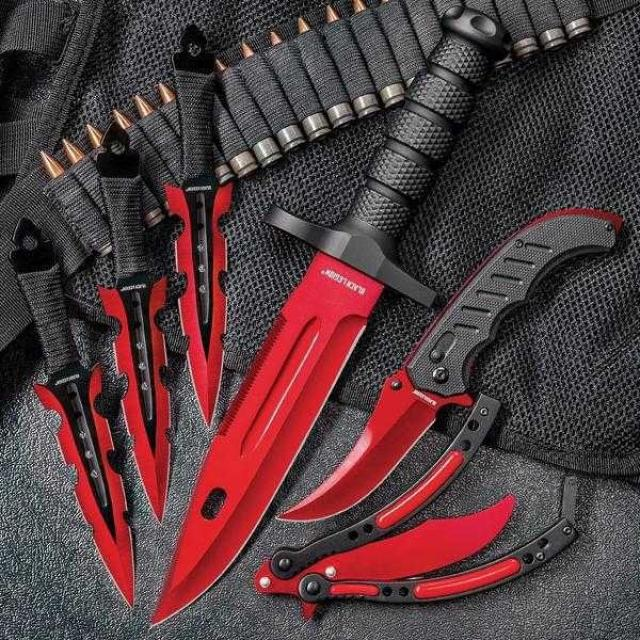Knife: (148, 9, 511, 634)
